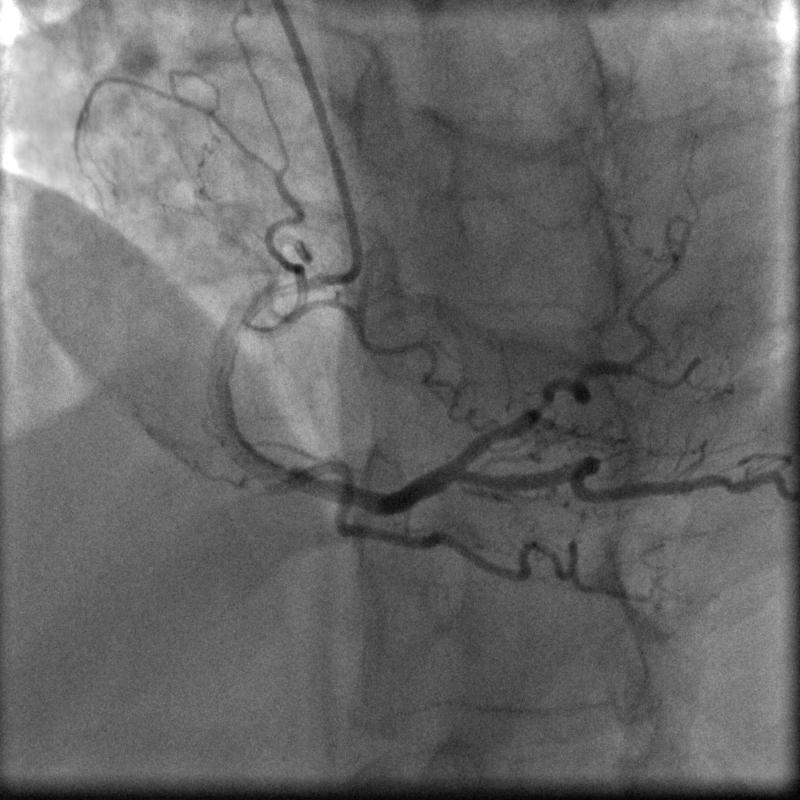Stenosis: (530, 387, 555, 421)
